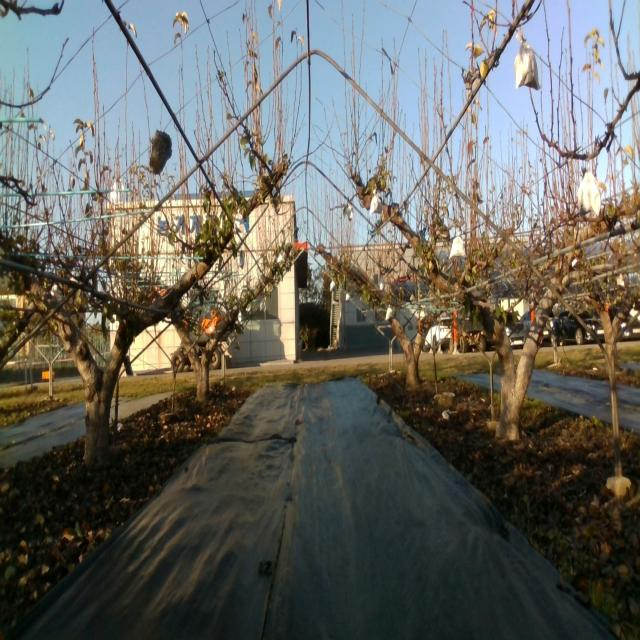pearbags: (514, 31, 541, 89), (578, 172, 602, 217), (448, 232, 468, 260), (370, 189, 382, 215), (234, 210, 247, 234)
